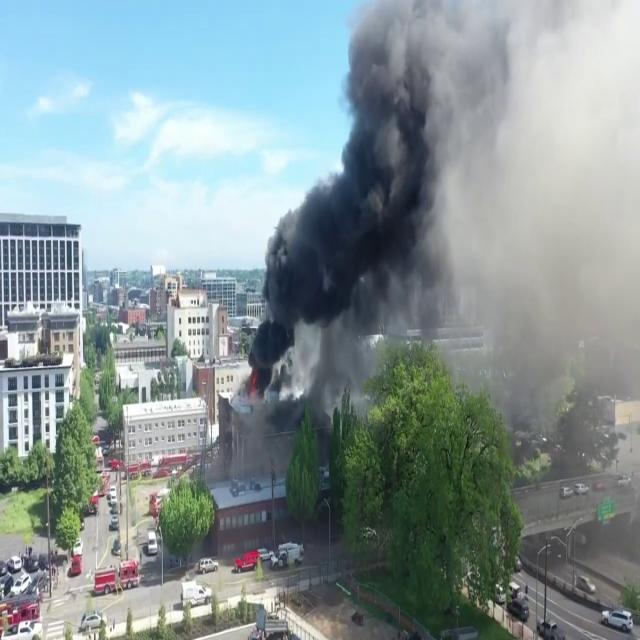Smoke: (249, 0, 461, 408), (464, 0, 638, 442)
